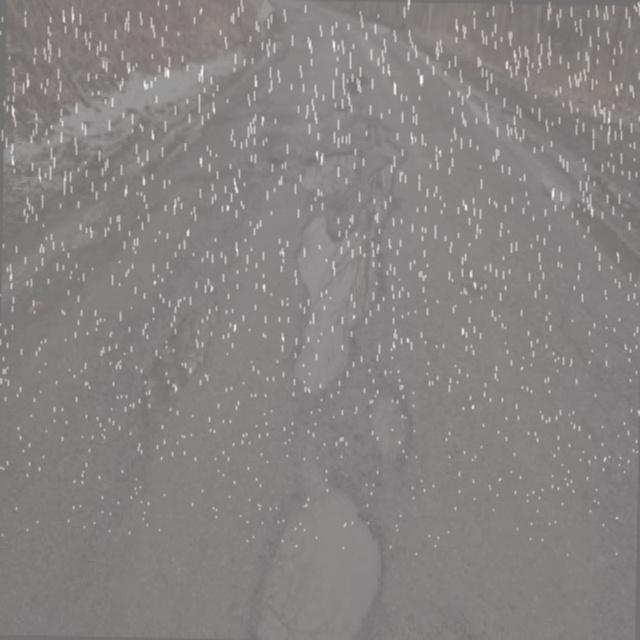Pothole: (244, 180, 386, 437), (212, 463, 398, 640), (365, 379, 425, 469)
